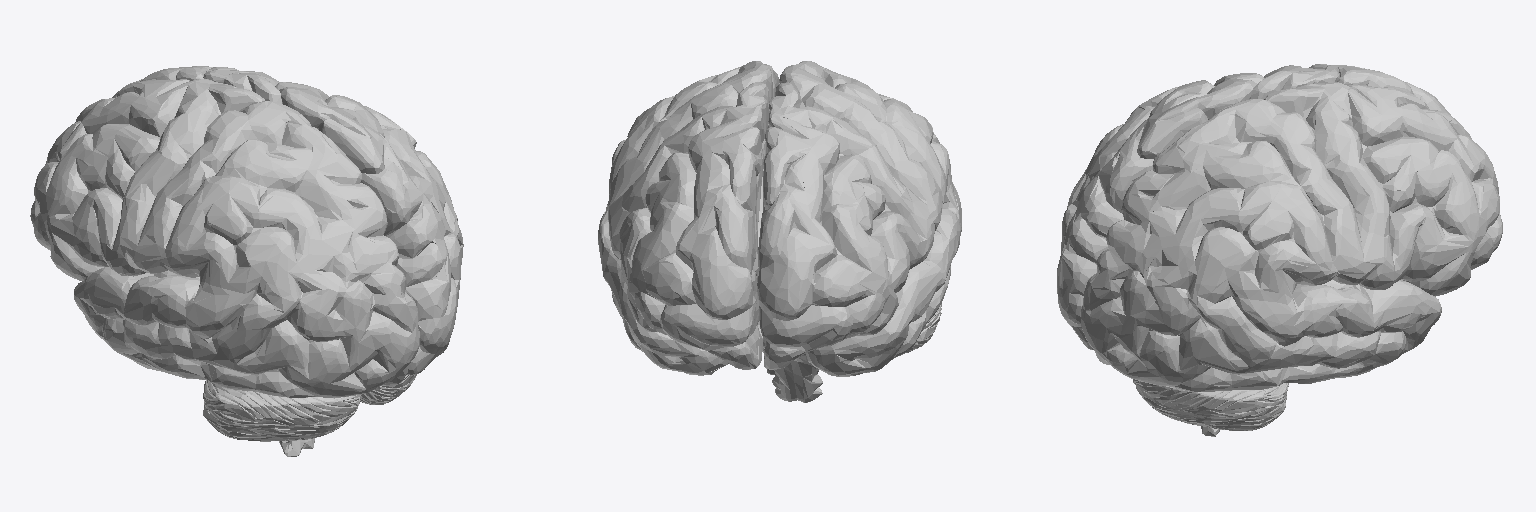
File: Brain.obj
3 views of the same model, side by side, from view 1: azimuth 30°, elevation 25°; view 2: azimuth 150°, elevation 25°; view 3: azimuth 270°, elevation 25° (orthographic).
Visible parts, largest first — view 1: default; view 2: default; view 3: default.
Part boxes in pixels (x1,y1,x2,y2): default: (30, 66, 463, 456); default: (598, 61, 961, 402); default: (1057, 64, 1502, 436).
Size of the model in its own units: 5.54 by 5.52 by 6.49.